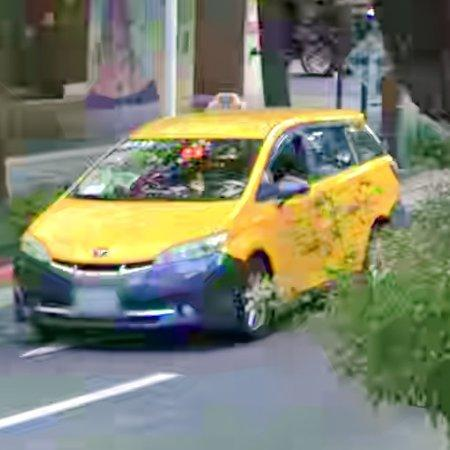taxis: (14, 94, 401, 337)
